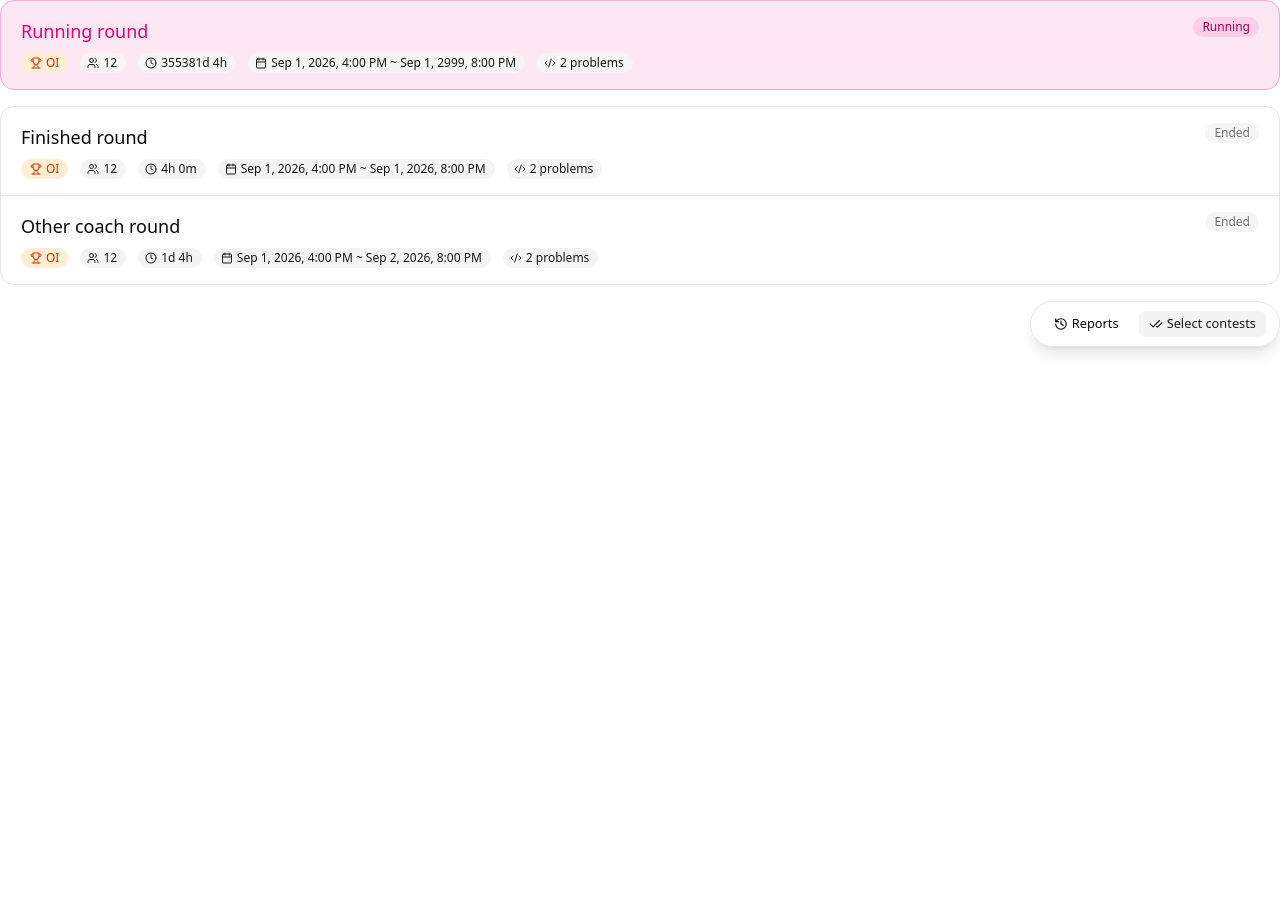
Test: contest analysis launcher › explains when the feature is unavailable
This screenshot has width=1280, height=900.
Click the button "Select contests" at {"x": 1202, "y": 324}, box [1138, 310, 1267, 338]
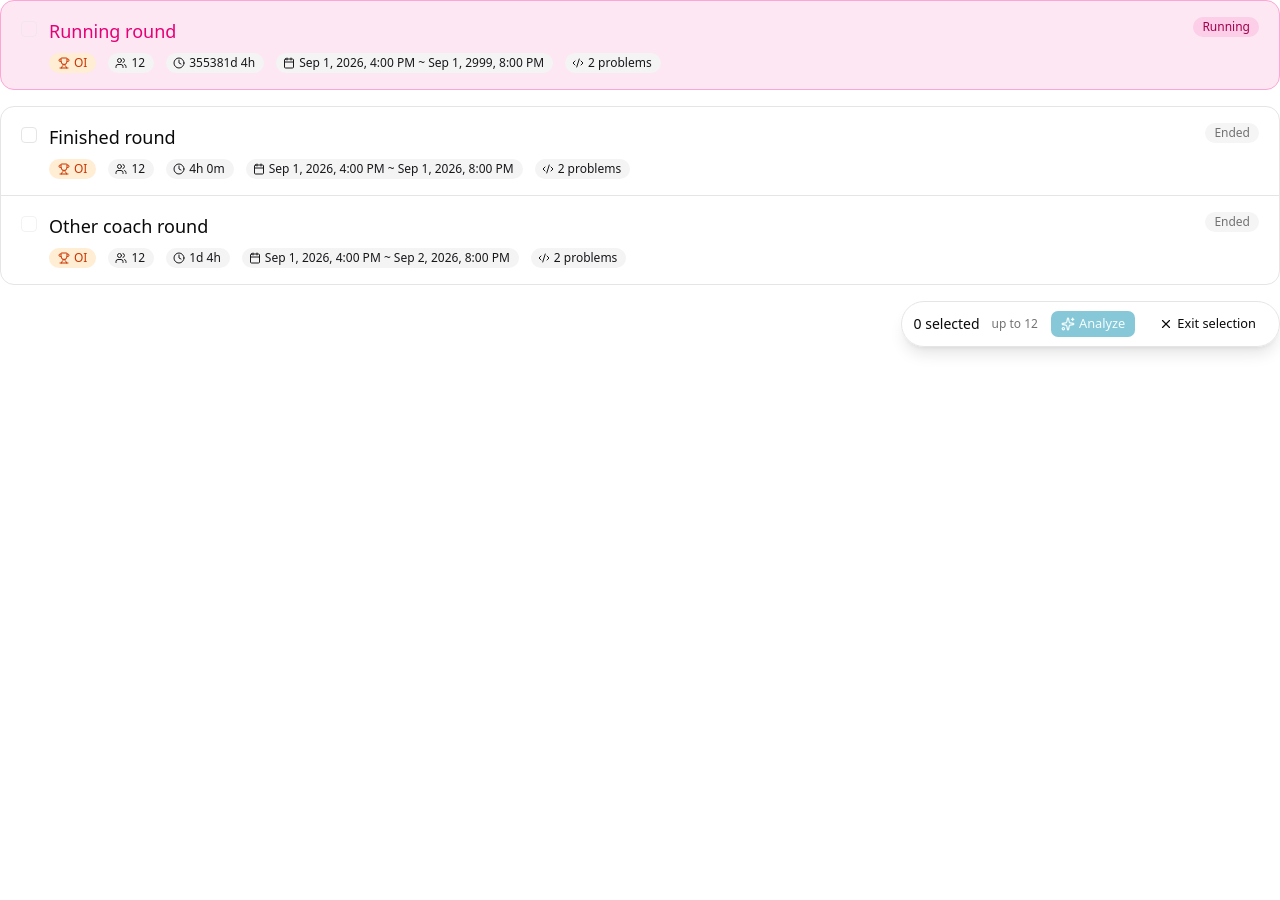
Click the checkbox named "Select contest: Finished round" at {"x": 29, "y": 135}, box [21, 127, 37, 143]
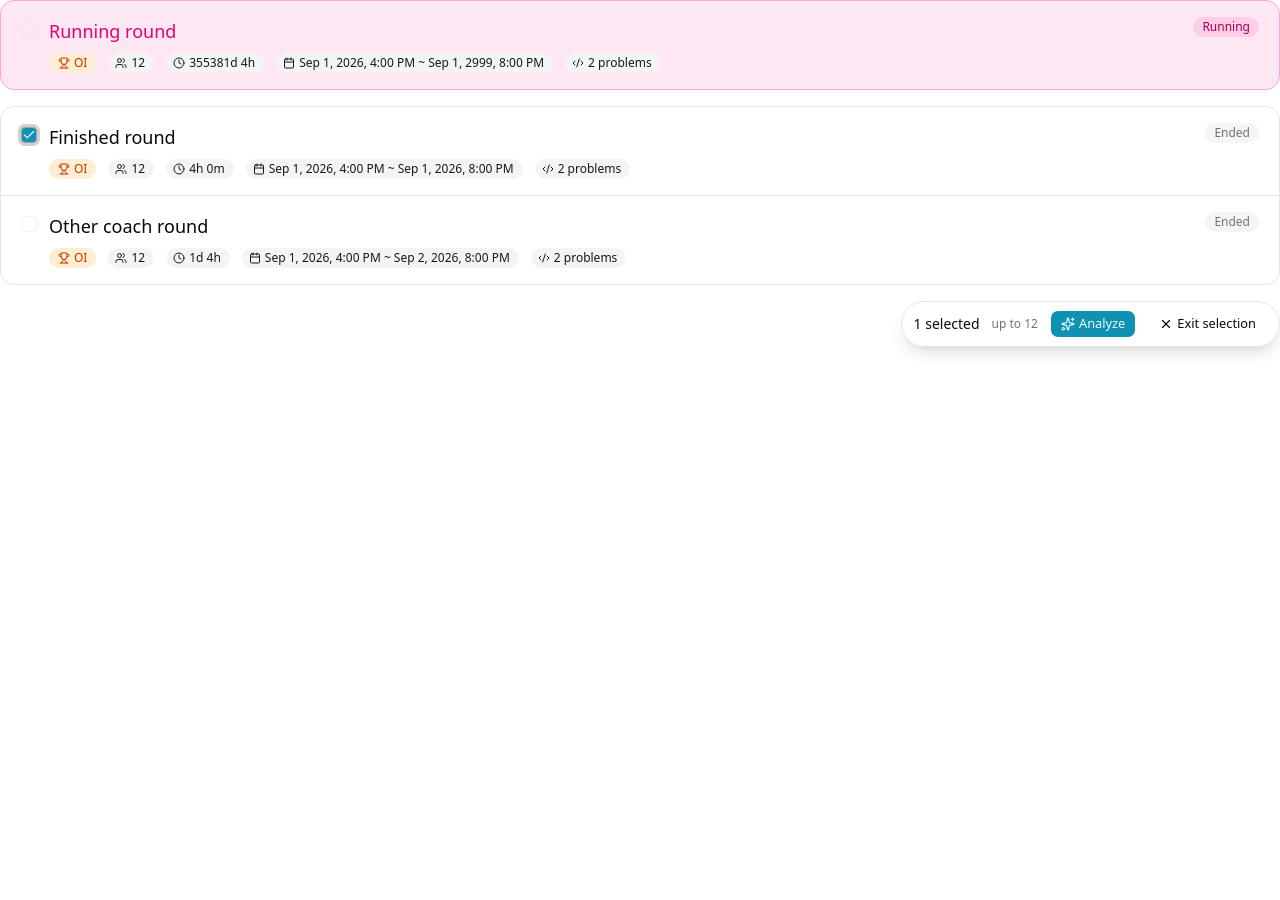
Click the button "Analyze" at {"x": 1093, "y": 324}, box [1050, 310, 1136, 338]
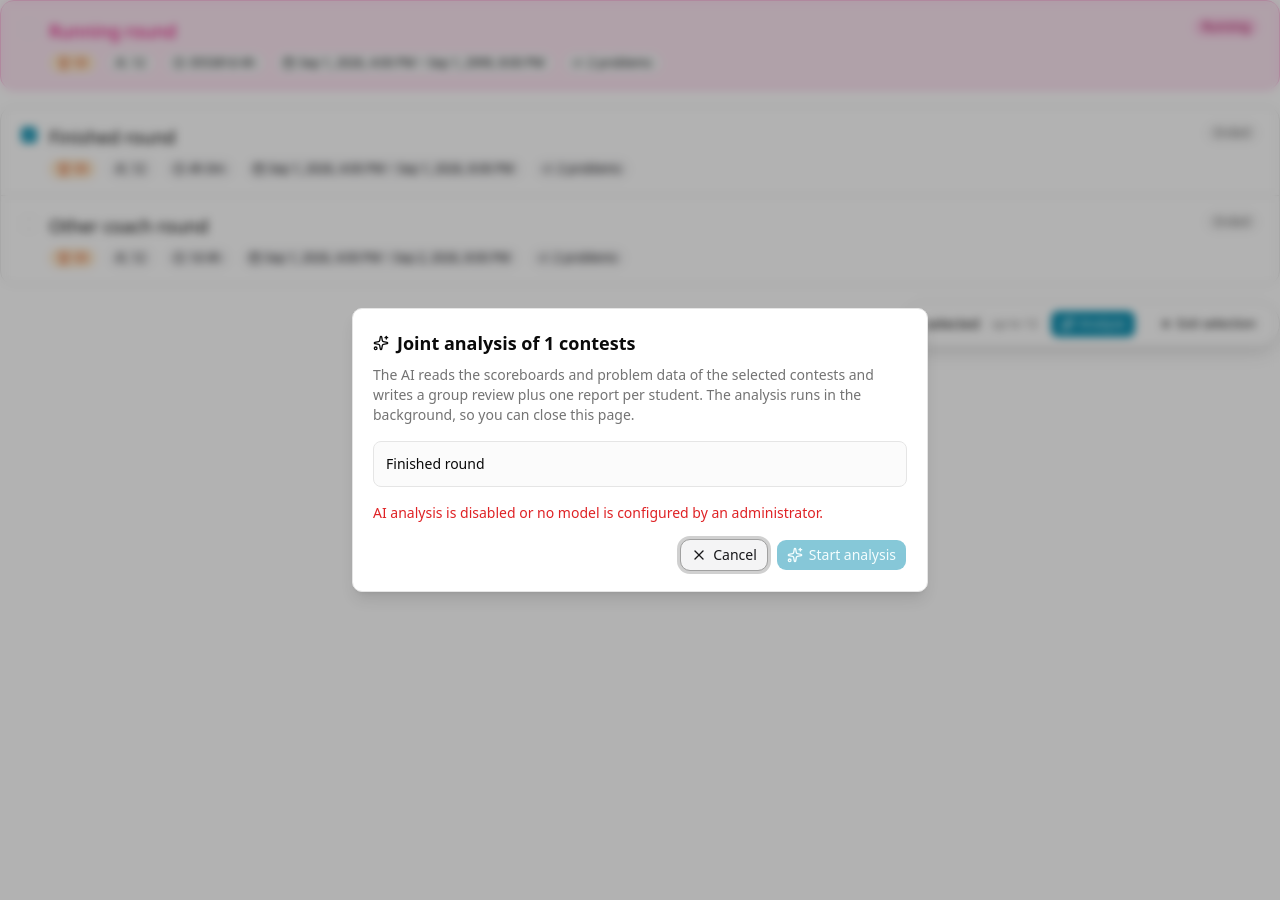
Check: the text "AI analysis is disabled or no model is configured by an administrator." is shown, box [373, 503, 823, 522]
Check: the button "Start analysis" is disabled, box [776, 539, 907, 571]
